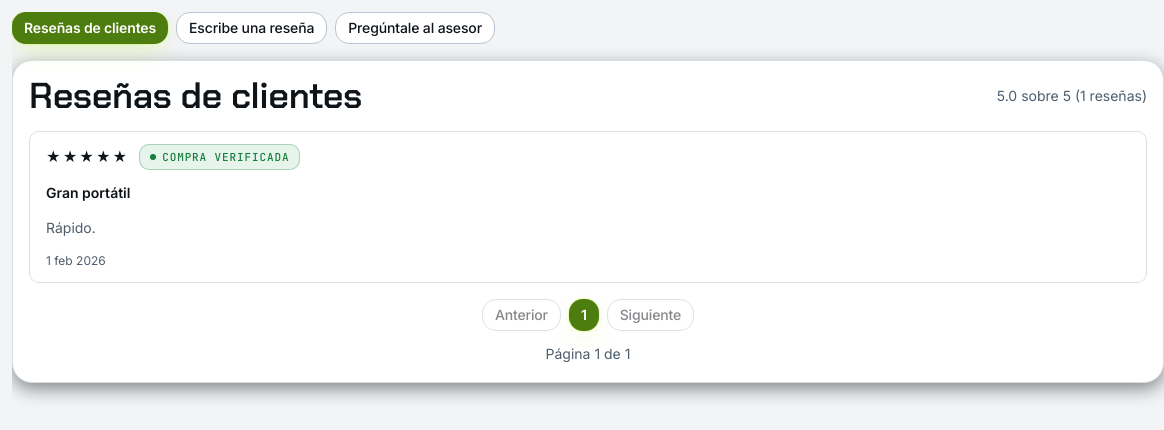
ProductDetailTabs › opens the advisor widget on its tab
Expected: the text "Gran portátil" is shown, x1=46 y1=184 x2=130 y2=201
Click the tab "Pregúntale al asesor": (415, 28) x1=335 y1=12 x2=495 y2=44
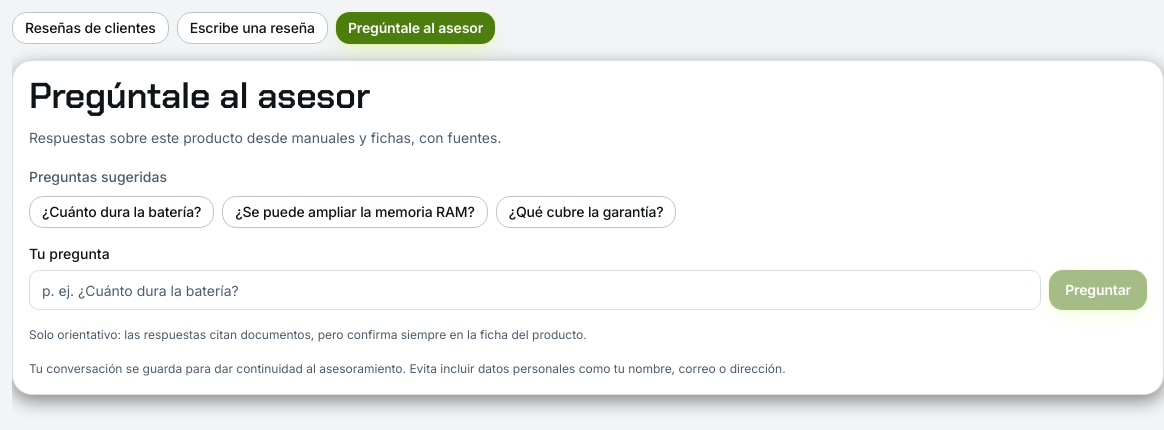
Expected: the field with placeholder "p. ej. ¿Cuánto dura la batería?" is shown, x1=29 y1=270 x2=1041 y2=310
